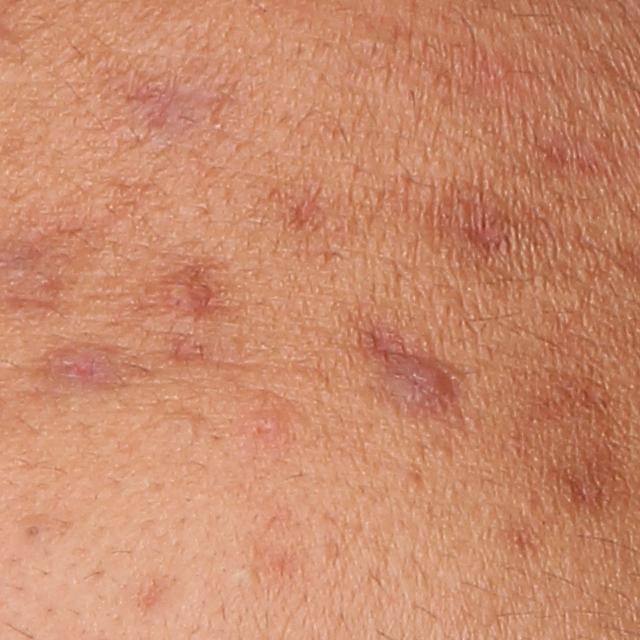comedo: (23, 520, 41, 541)
papule: (386, 357, 456, 409)
